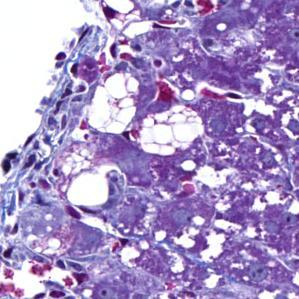ballooning: (57, 142, 129, 209), (85, 70, 144, 137), (136, 101, 204, 158)
